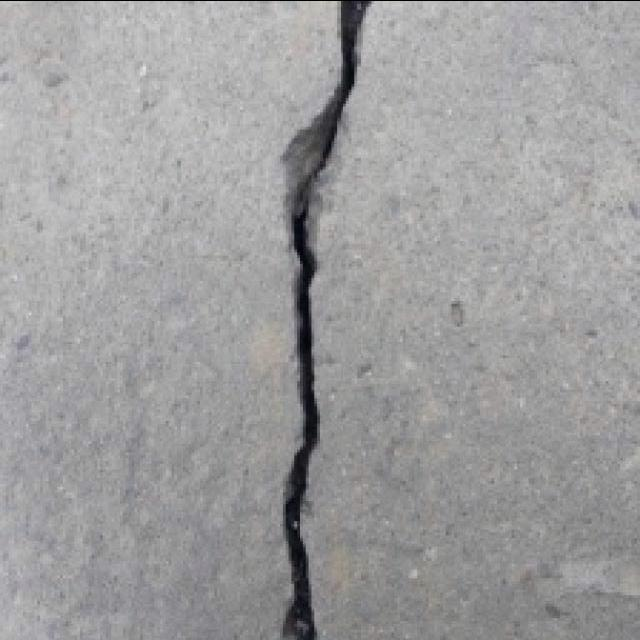SurfaceCrack: (230, 0, 422, 640)
